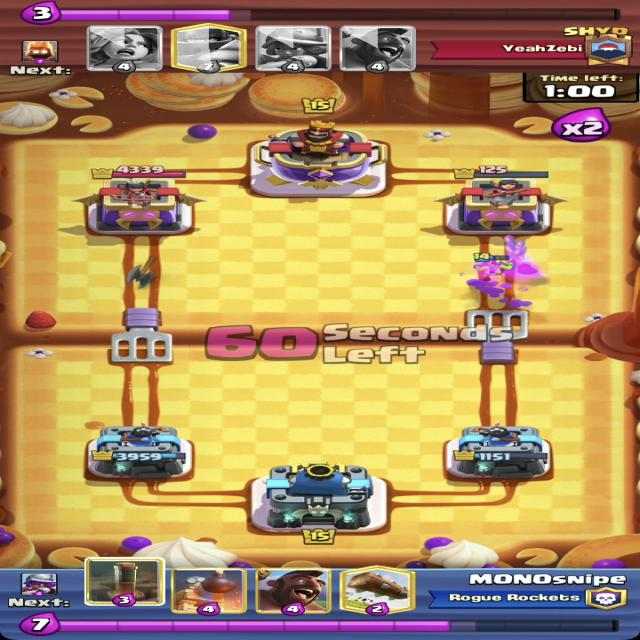Player-Goblin: (469, 250, 514, 280)
